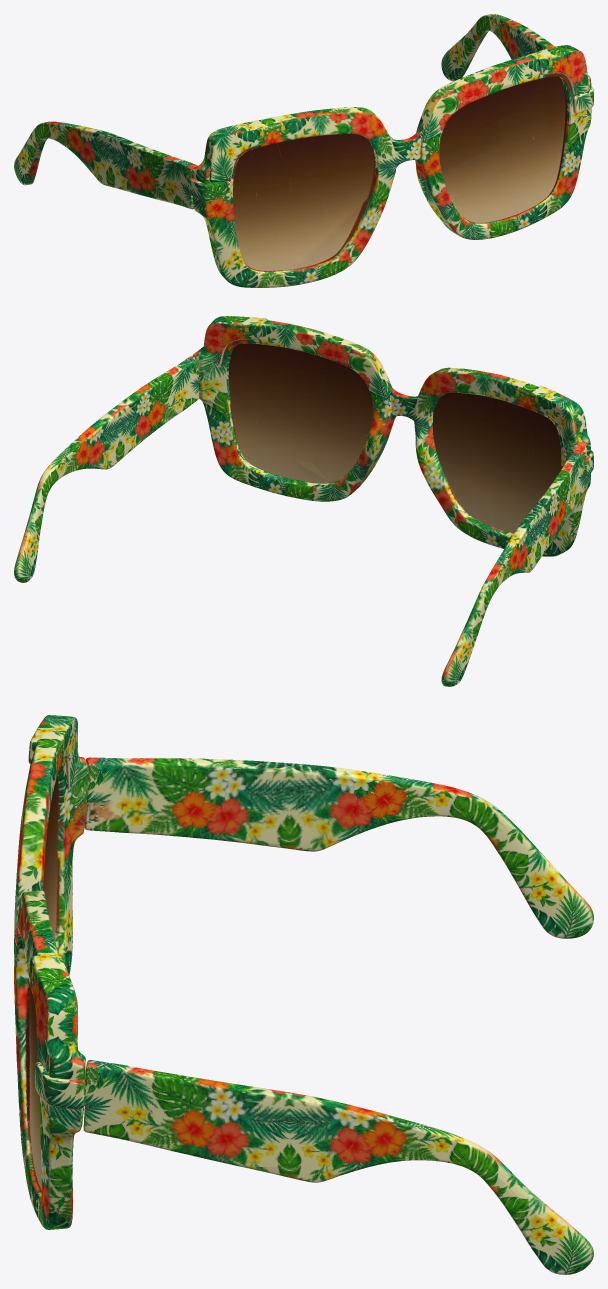
The model's file is bashment-shades.glb.
The picture shows the model from 3 angles, top to bottom: view 1: azimuth 30°, elevation 25°; view 2: azimuth 150°, elevation 25°; view 3: azimuth 270°, elevation 25°; orthographic projection. The views are drawn at different scales.
Parts seen in each view (by area): view 1: Mesh_0; view 2: Mesh_0; view 3: Mesh_0.
Boxes of the visible parts, x1,y1,x2,y2 form: Mesh_0: [14, 14, 593, 287]; Mesh_0: [14, 316, 593, 686]; Mesh_0: [14, 715, 593, 1274].
Size of the model in its own units: 17.1 by 6.08 by 11.82.
1 material, 1 textured.
